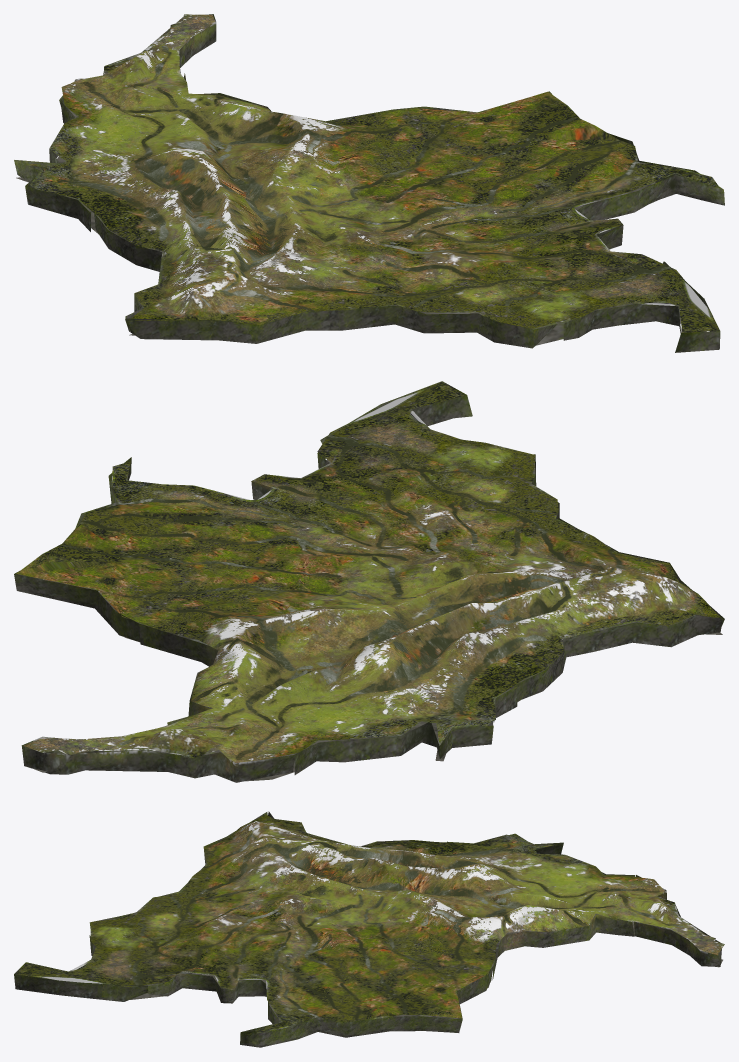
Rendered from colombia_03.glb.
The picture shows the model from 3 angles, top to bottom: view 1: azimuth 30°, elevation 25°; view 2: azimuth 150°, elevation 25°; view 3: azimuth 270°, elevation 25°; orthographic projection. The views are drawn at different scales.
Parts seen in each view (by area): view 1: PM3D_mapabase1_2.002; view 2: PM3D_mapabase1_2.002; view 3: PM3D_mapabase1_2.002.
Boxes of the visible parts, left/top/right/bottom form: PM3D_mapabase1_2.002: left=14, top=14, right=724, bottom=352; PM3D_mapabase1_2.002: left=14, top=381, right=724, bottom=782; PM3D_mapabase1_2.002: left=14, top=811, right=724, bottom=1047.
Bounding box in the file's own units: 12.63 × 0.9346 × 17.13.
Materials: 1 (1 with a texture image).
